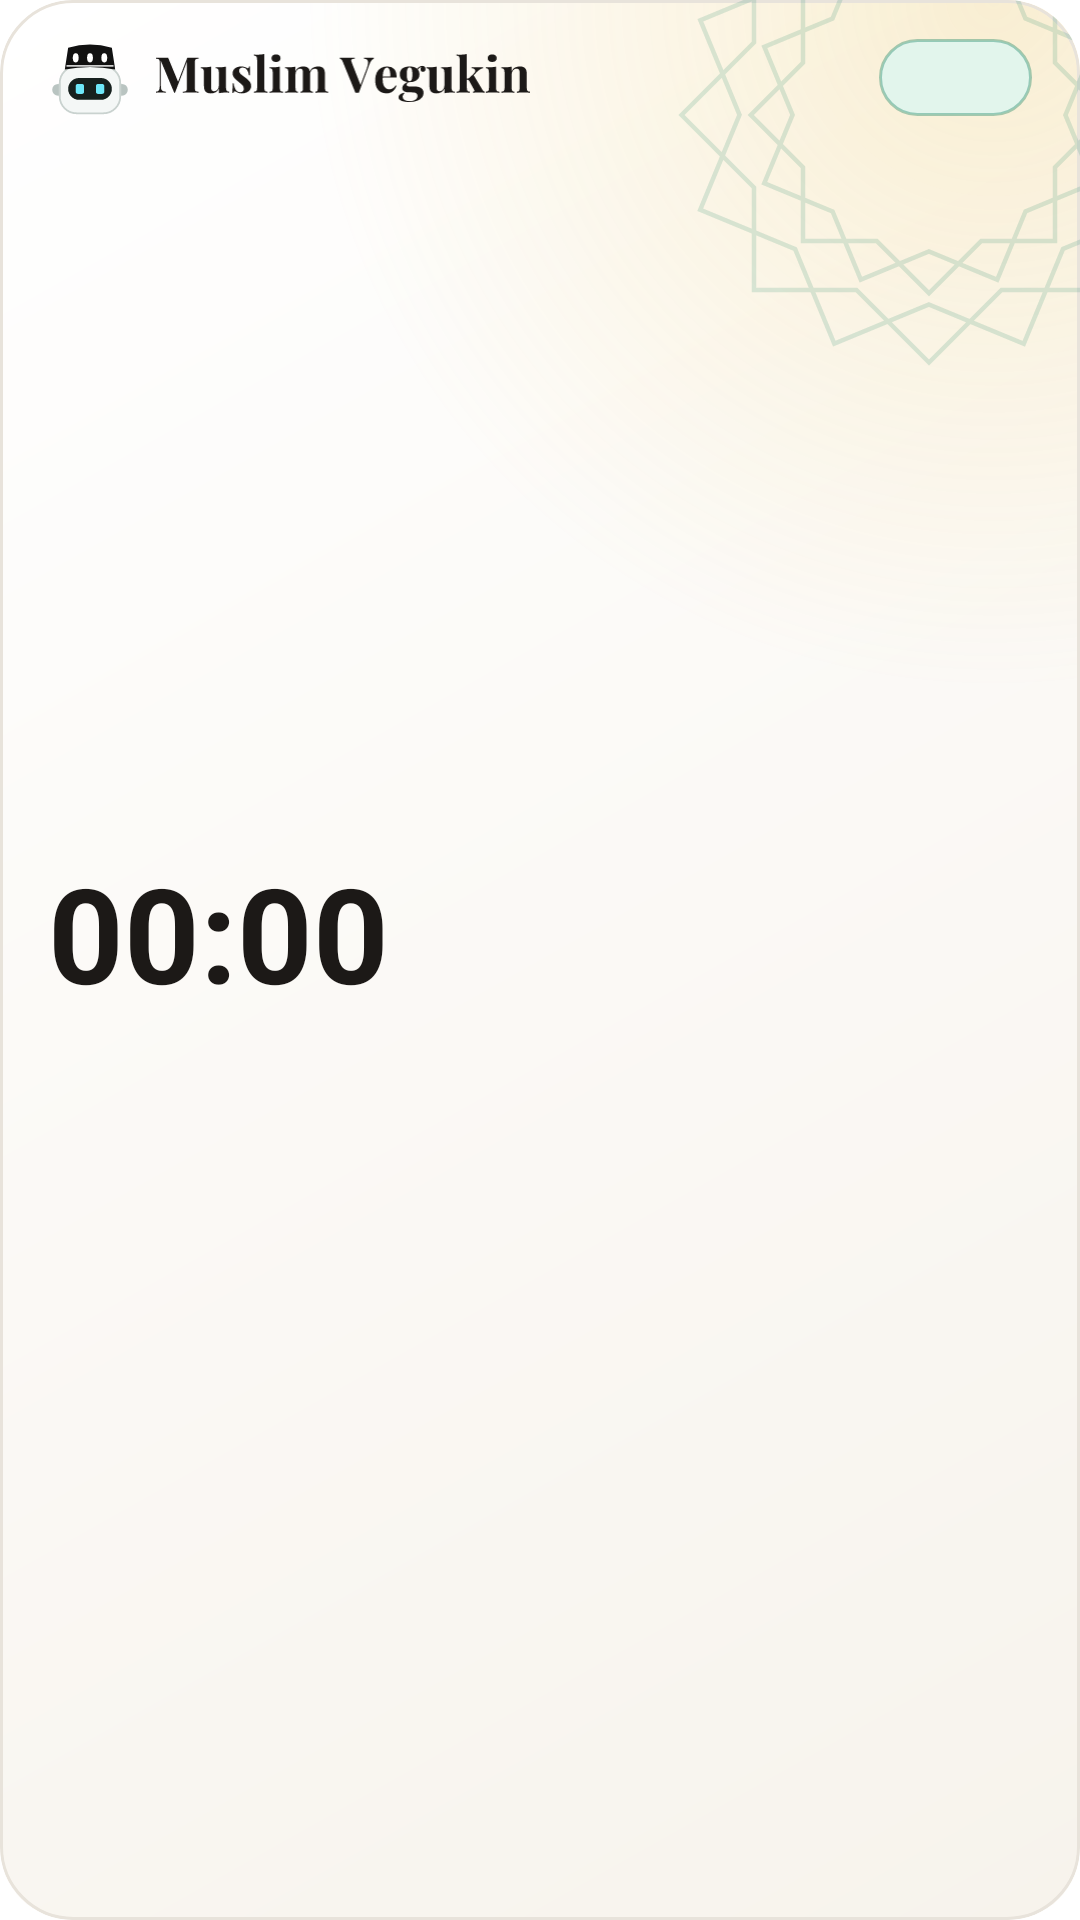

Where icons sit on this 1080px×1920px app screen, as box(x1, y1, x2, y2):
widget bot: box(52, 44, 128, 115)
